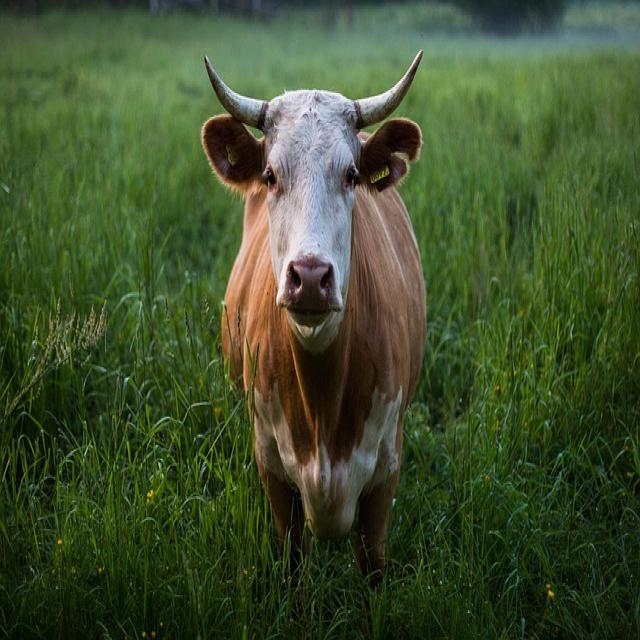Herbivorous: (199, 52, 428, 591)
